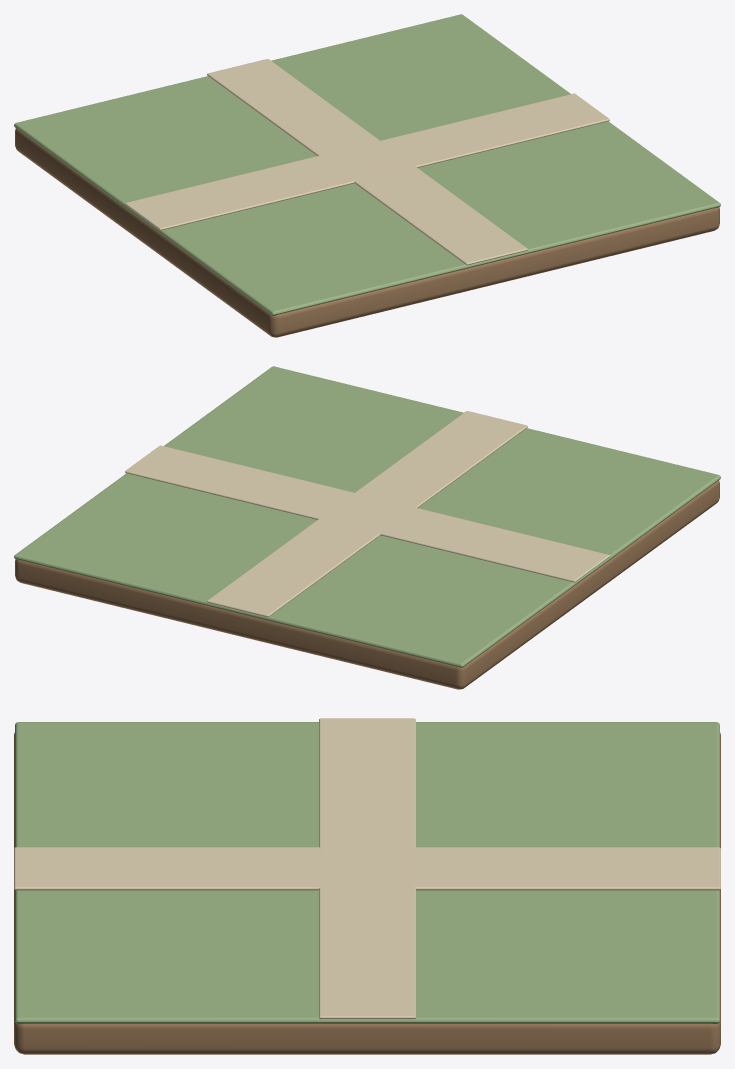
Rendered from tile-grass.glb.
3 views of the same model, one above another, from view 1: azimuth 30°, elevation 25°; view 2: azimuth 150°, elevation 25°; view 3: azimuth 270°, elevation 25° (orthographic). The views are drawn at different scales.
Visible parts, largest first — view 1: Ground, East west path, Island, North south path; view 2: Ground, East west path, Island, North south path; view 3: Ground, East west path, North south path, Island.
Boxes of the visible parts, x1=… form: Ground: x1=14, y1=14, x2=720, y2=315; East west path: x1=125, y1=93, x2=609, y2=230; Island: x1=15, y1=128, x2=719, y2=337; North south path: x1=207, y1=59, x2=527, y2=265; Ground: x1=14, y1=366, x2=720, y2=667; East west path: x1=125, y1=445, x2=609, y2=582; Island: x1=15, y1=480, x2=719, y2=689; North south path: x1=207, y1=411, x2=527, y2=617; Ground: x1=15, y1=722, x2=719, y2=1023; East west path: x1=319, y1=718, x2=415, y2=1019; North south path: x1=14, y1=847, x2=720, y2=890; Island: x1=14, y1=732, x2=720, y2=1054.
Size of the model in its own units: 8 by 0.519 by 8.
